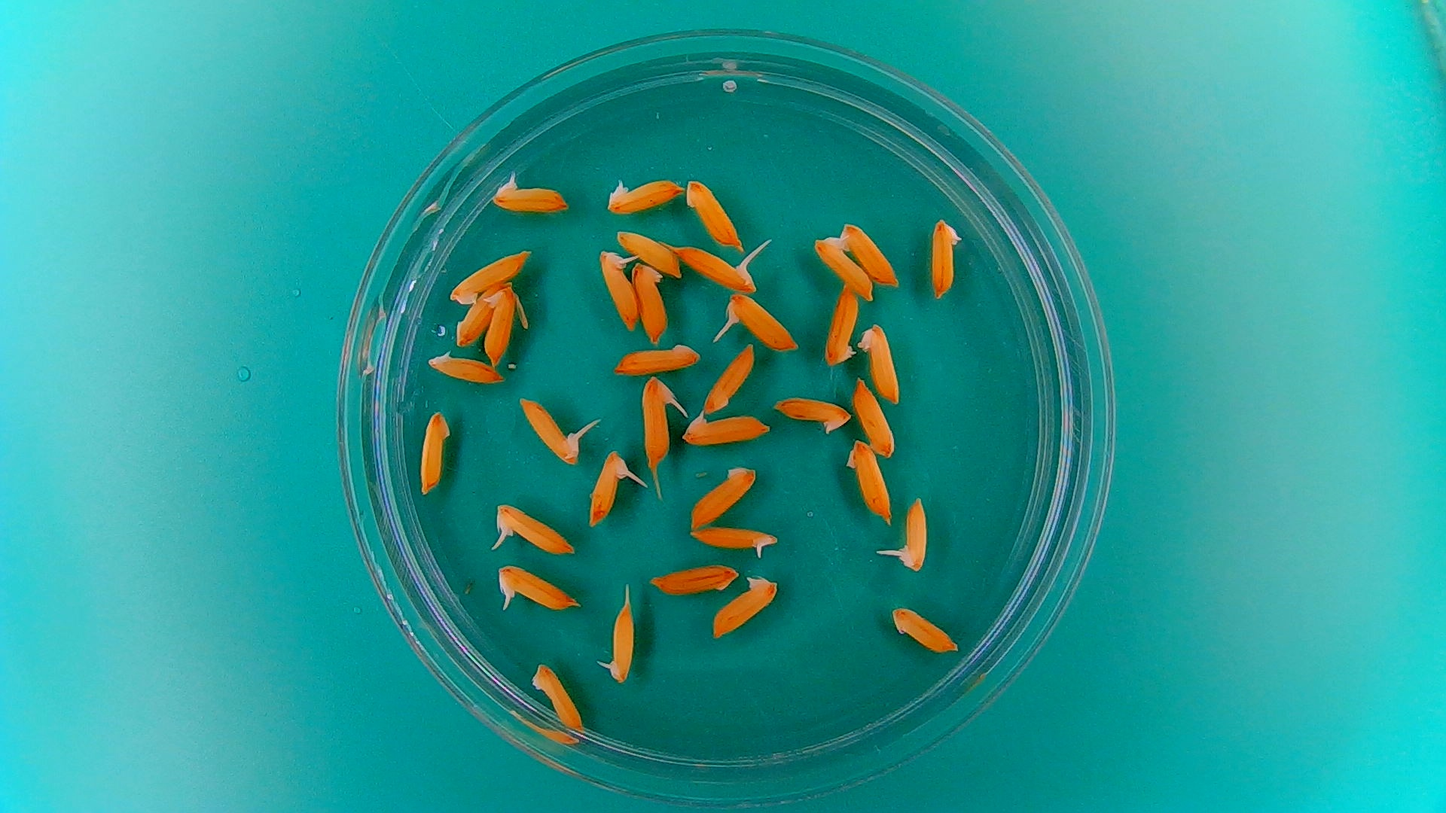no: (447, 244, 534, 309), (683, 460, 762, 531), (709, 570, 782, 642), (835, 216, 903, 288), (685, 174, 745, 250), (844, 437, 895, 525), (528, 657, 586, 734), (849, 374, 900, 461), (856, 319, 904, 405), (702, 340, 756, 415), (613, 226, 685, 280), (679, 410, 773, 449), (646, 558, 739, 597), (769, 391, 851, 434), (889, 607, 962, 655), (452, 278, 502, 347), (630, 260, 670, 346), (423, 348, 506, 388), (821, 287, 861, 368), (927, 217, 964, 303), (483, 282, 520, 367), (612, 340, 699, 376), (418, 407, 450, 495)
yes: (725, 292, 804, 353), (811, 236, 876, 304), (669, 240, 761, 288), (496, 502, 573, 558), (523, 394, 582, 467), (639, 372, 682, 472), (584, 446, 636, 528), (593, 247, 640, 331), (602, 172, 685, 217), (687, 522, 782, 560), (499, 567, 576, 613), (602, 599, 636, 681), (493, 180, 569, 215), (894, 497, 929, 570)
